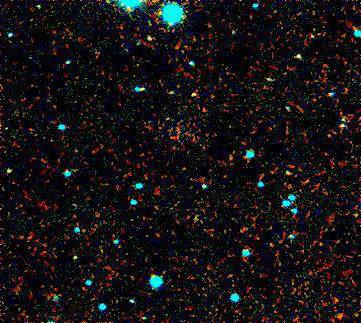star: (181, 79, 211, 109)
